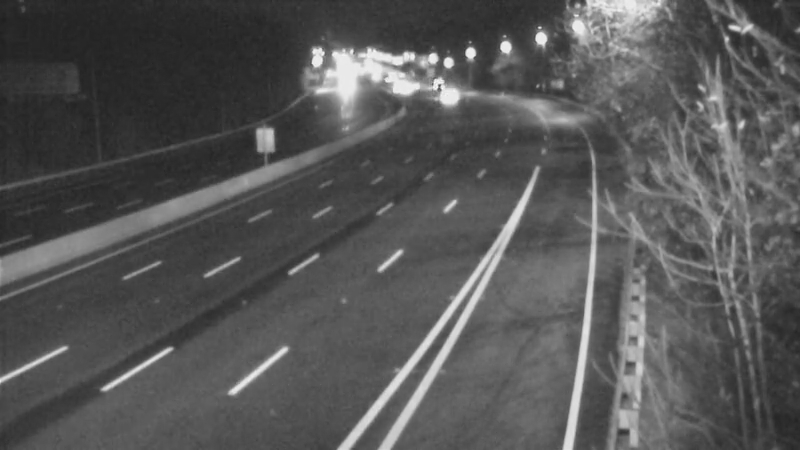vehicle: (412, 58, 462, 108), (422, 70, 472, 120)
